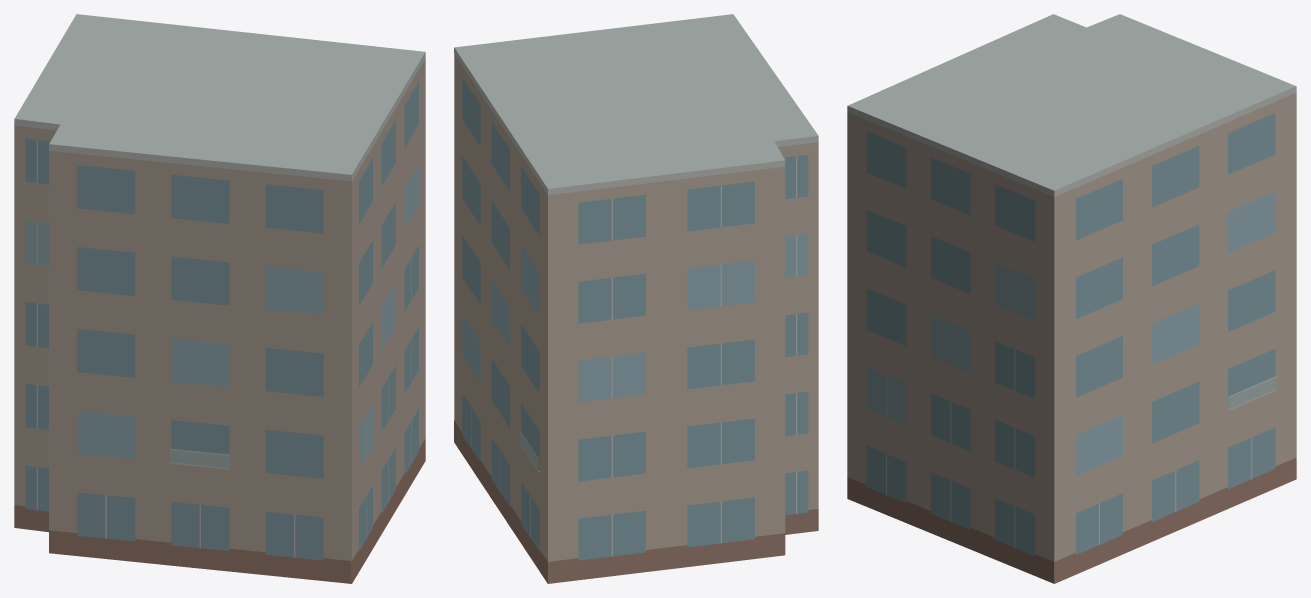
File: survey-upis-32845328.glb
3 renders of one model, left to right at view 1: azimuth 30°, elevation 25°; view 2: azimuth 150°, elevation 25°; view 3: azimuth 270°, elevation 25°, orthographic. The views are drawn at different scales.
Visible parts, largest first — view 1: survey-upis-32845328.tmp; view 2: survey-upis-32845328.tmp; view 3: survey-upis-32845328.tmp.
Boxes of the visible parts, x1,y1,x2,y2 form: survey-upis-32845328.tmp: (14,14,425,583); survey-upis-32845328.tmp: (454,14,818,583); survey-upis-32845328.tmp: (847,14,1296,583).
Size of the model in its own units: 14.72 by 15.25 by 15.8.
